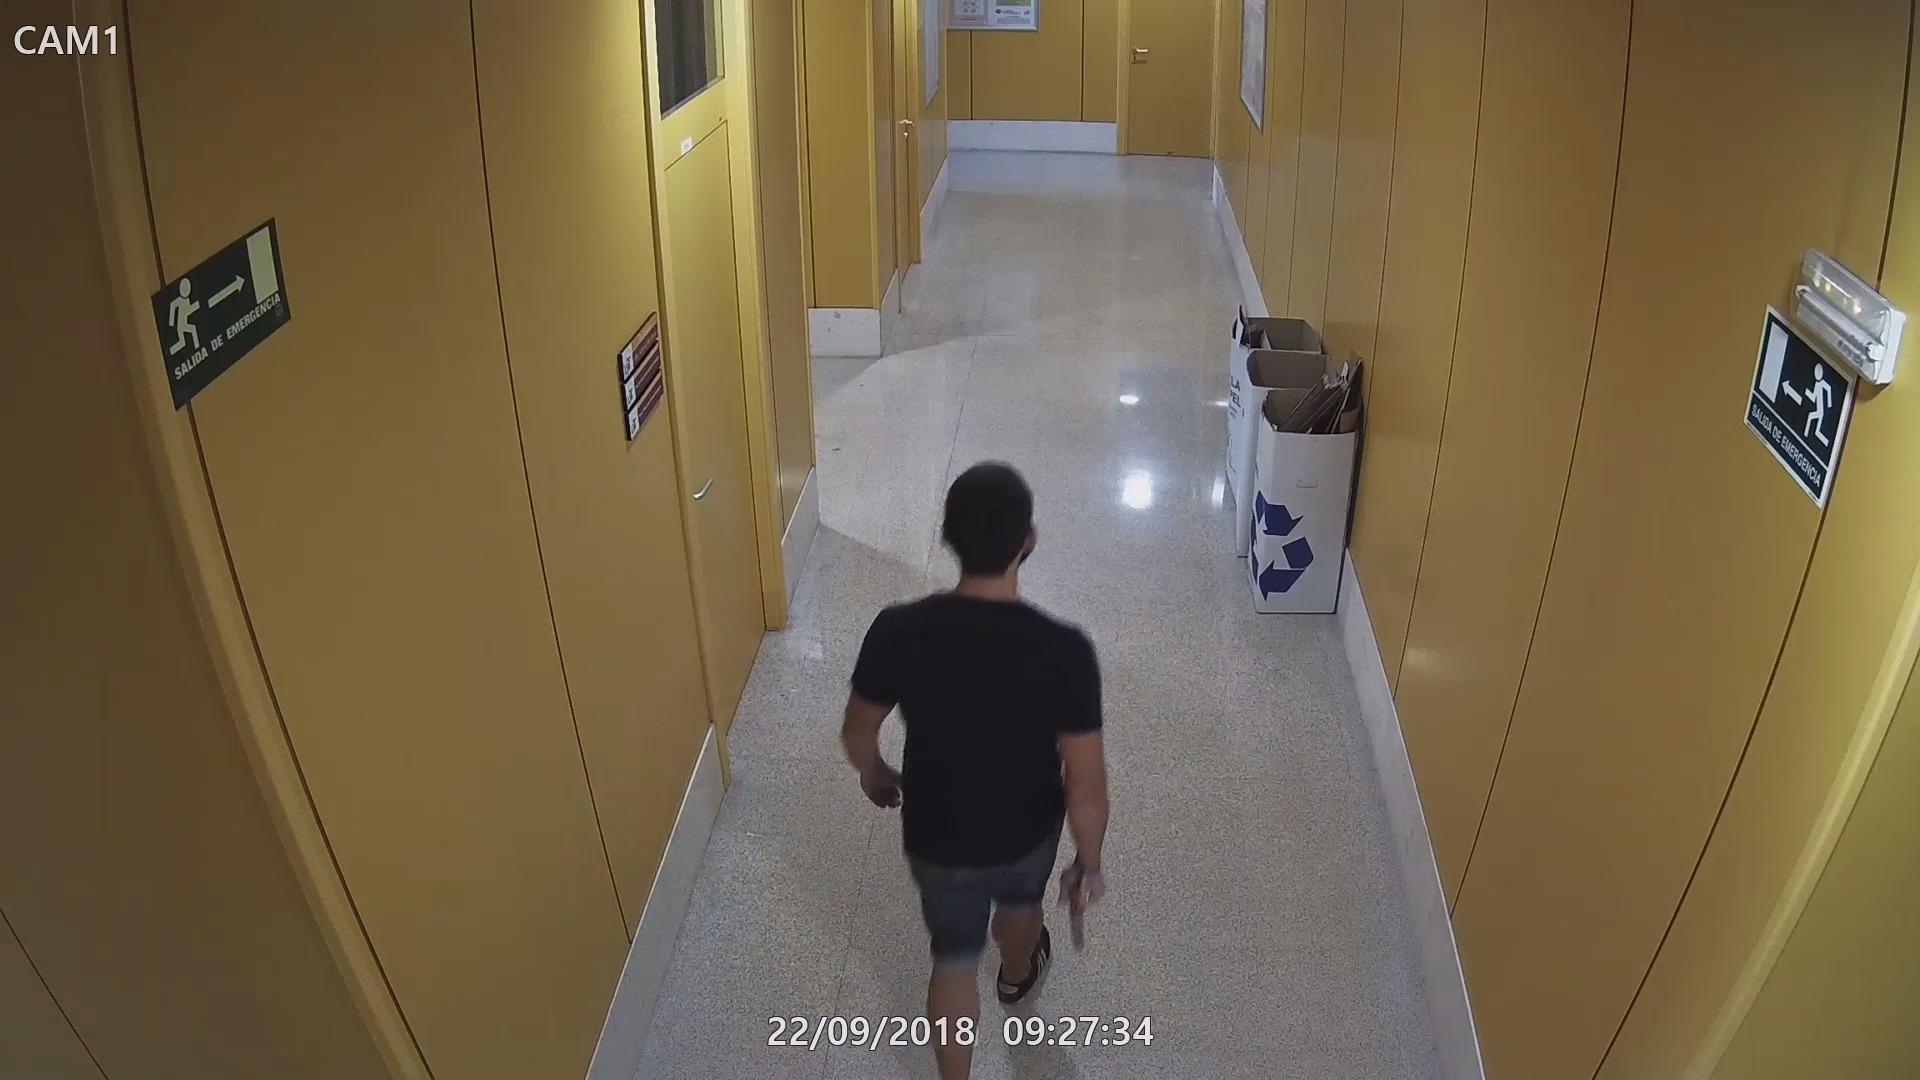Handgun: (1058, 855, 1110, 955)
